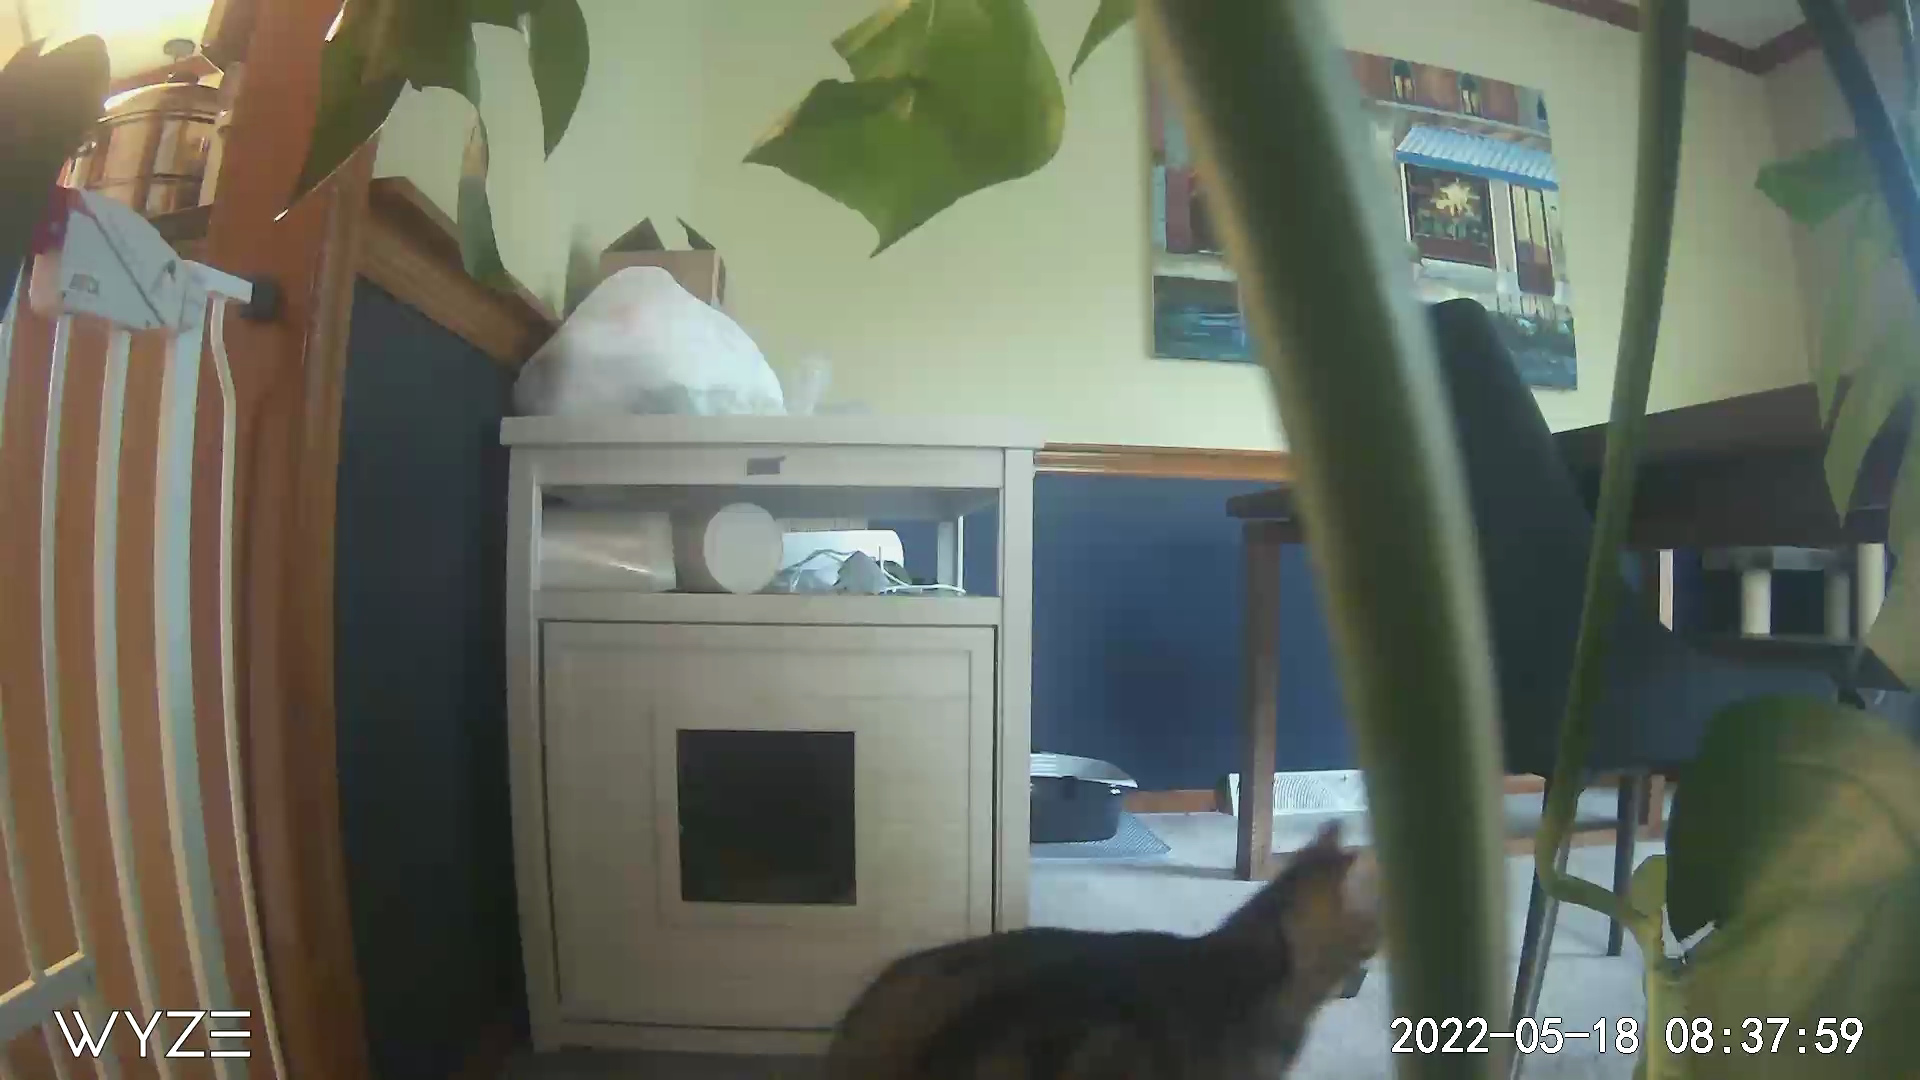sparky: (818, 832, 1379, 1077)
